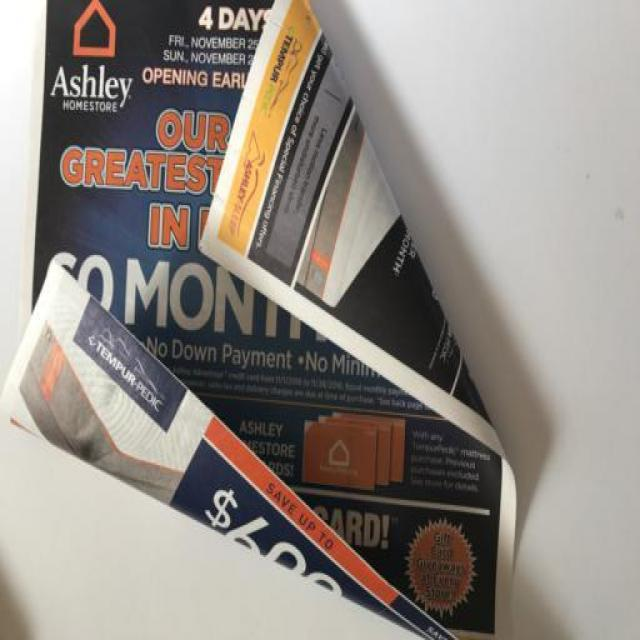paper: (33, 6, 504, 640)
